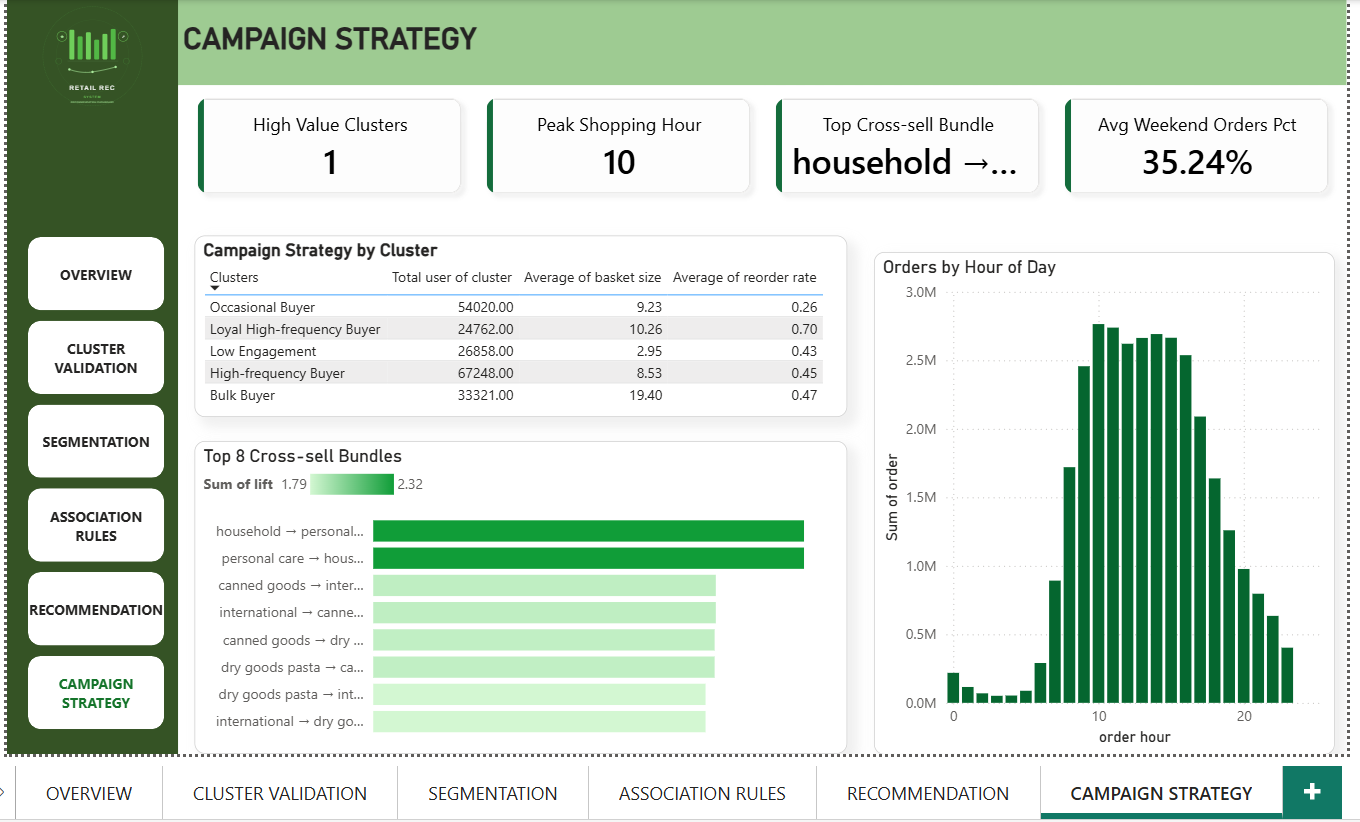

This screenshot's page, from the dashboard's own definition file:
{"tool":"powerbi","page":{"name":"CAMPAIGN STRATEGY","canvas":[1280,720],"ordinal":5},"visuals":[{"type":"shape","box":[0,0,163.3,830],"z":0,"group":"g1"},{"type":"shape","box":[150.4,0,1128.7,81.6],"z":0},{"type":"image","box":[0,0,163.8,107.5],"z":1000,"group":"g1"},{"type":"textbox","box":[162.7,13.6,639.1,76.4],"z":1000},{"type":"group","id":"g1","title":"Group 1","box":[0,0,163.8,830],"z":2000},{"type":"pageNavigator","box":[20,225.7,130,472.9],"z":4000},{"type":"cardVisual","fields":{"Data":["measures (2).High Value Clusters","measures (2).Peak Shopping Hour","measures (2).Top Cross-sell Bundle","measures (2).Avg Weekend Orders Pct"]},"box":[164.3,81.4,1115.7,115.7],"z":5000},{"type":"tableEx","title":"Campaign Strategy by Cluster","fields":{"Values":["dim_cluster.cluster_label","Avg(dim_cluster.user_count)","Avg(dim_cluster.avg_basket_size)","Avg(dim_cluster.reorder_rate)"]},"box":[178.3,225,623.3,173.3],"z":6000},{"type":"clusteredBarChart","title":"Top 8 Cross-sell Bundles","fields":{"Category":["association_rules.rule_label"],"Y":["Max(association_rules.lift)"]},"box":[178.3,421.7,623.3,298.3],"z":7000},{"type":"clusteredColumnChart","title":"Orders by Hour of Day","fields":{"Category":["dim_time_behavior.order_hour"],"Y":["Sum(fact_product_stats.order_count)"]},"box":[827.9,240.6,439.7,479.9],"z":8000}]}

Visuals, with their boxes on the page's 1280x720 design canvas (x1, y1, x2, y2). These are canvas units, not pixel positions in the 1360x822 screenshot, which may show the page scaled, cropped or inside an application window:
shape: select_region(0, 0, 163, 830)
shape: select_region(150, 0, 1279, 82)
image: select_region(0, 0, 164, 108)
textbox: select_region(163, 14, 802, 90)
"Group 1" group: select_region(0, 0, 164, 830)
pageNavigator: select_region(20, 226, 150, 699)
cardVisual - measures (2).High Value Clusters x measures (2).Peak Shopping Hour: select_region(164, 81, 1280, 197)
"Campaign Strategy by Cluster" tableEx: select_region(178, 225, 802, 398)
"Top 8 Cross-sell Bundles" clusteredBarChart: select_region(178, 422, 802, 720)
"Orders by Hour of Day" clusteredColumnChart: select_region(828, 241, 1268, 720)
